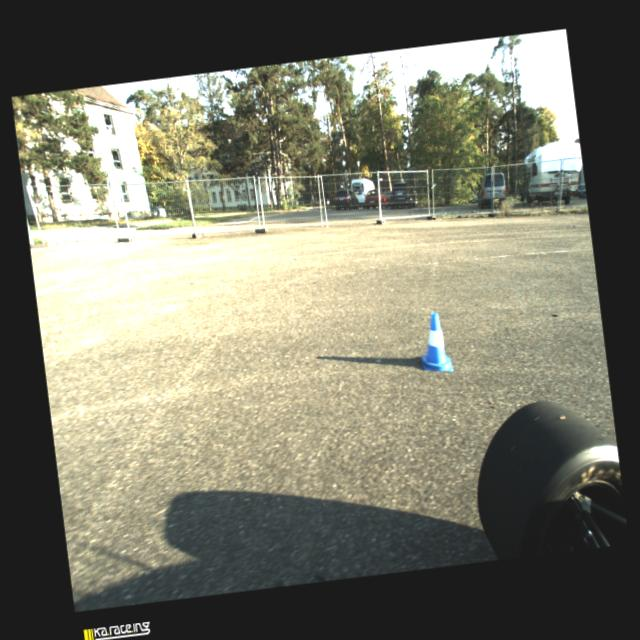blue_cone: (414, 310, 454, 376)
